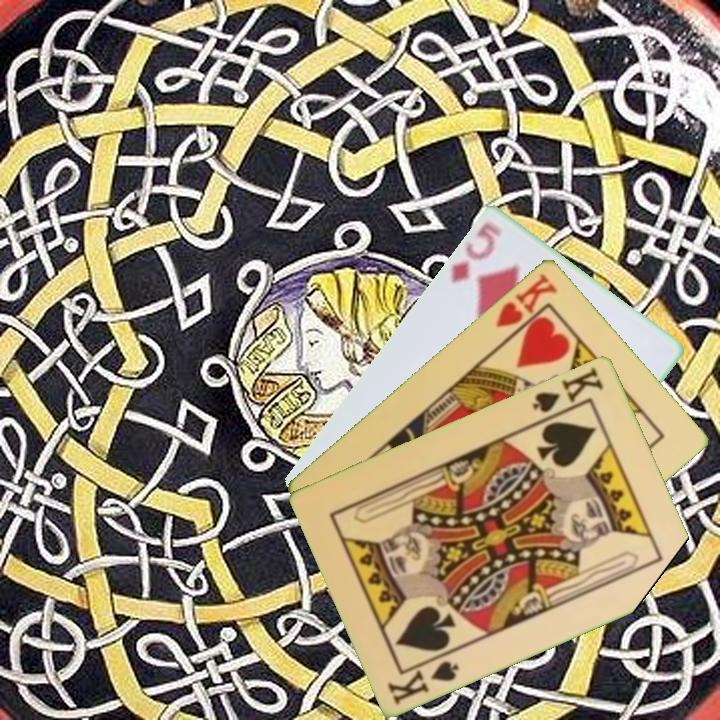5d: (447, 218, 505, 286)
Kh: (492, 268, 561, 343)
Ks: (529, 362, 607, 415), (384, 656, 462, 708)
